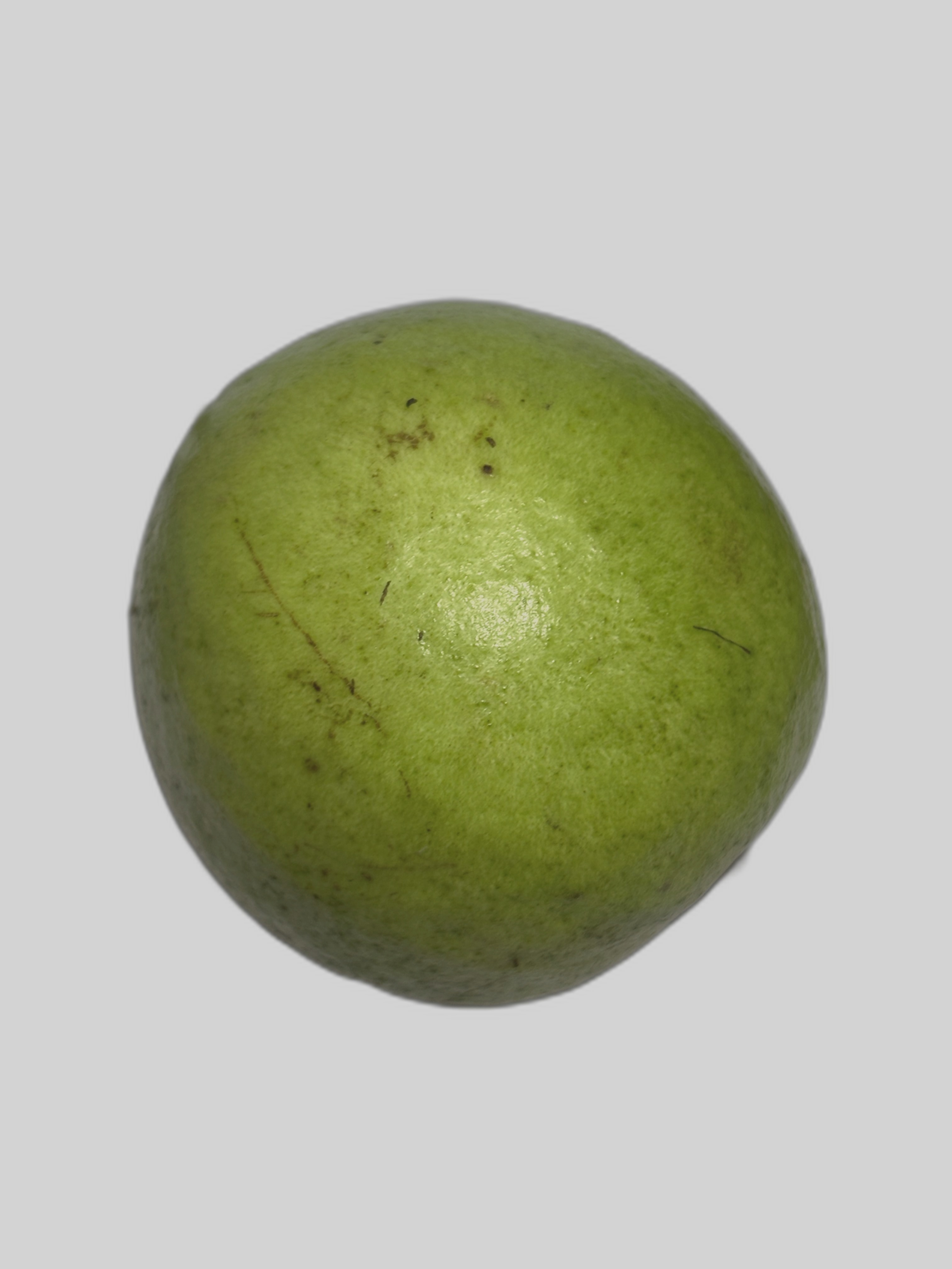guava: (187, 296, 876, 1165)
